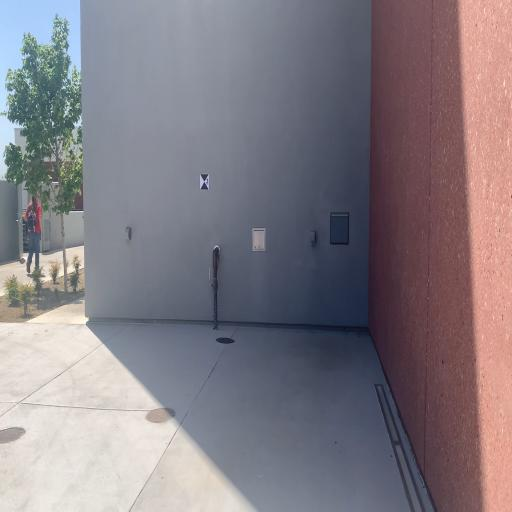target3: (200, 173, 209, 191)
